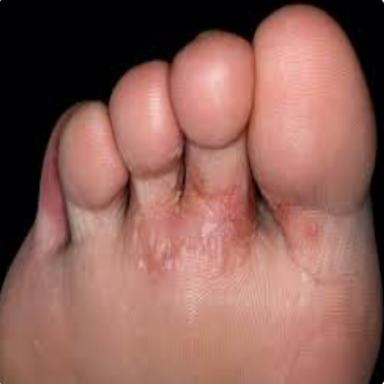eczema: (124, 173, 267, 274)
